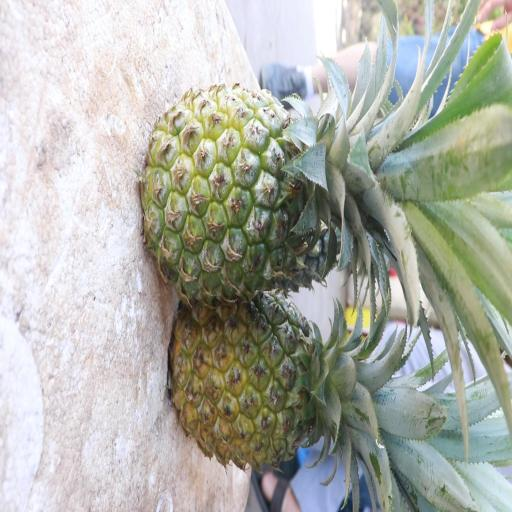------------------------------: (146, 74, 371, 292)
Pineapple - v8 v1: (172, 293, 378, 474)
